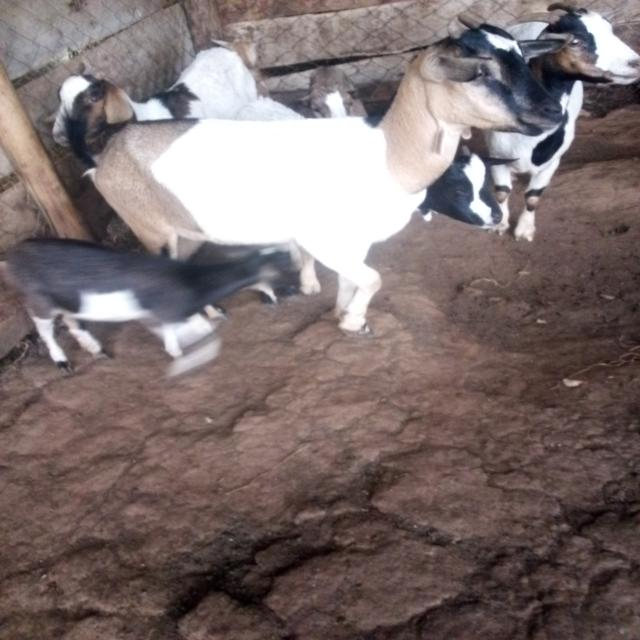goat: (14, 0, 582, 371)
